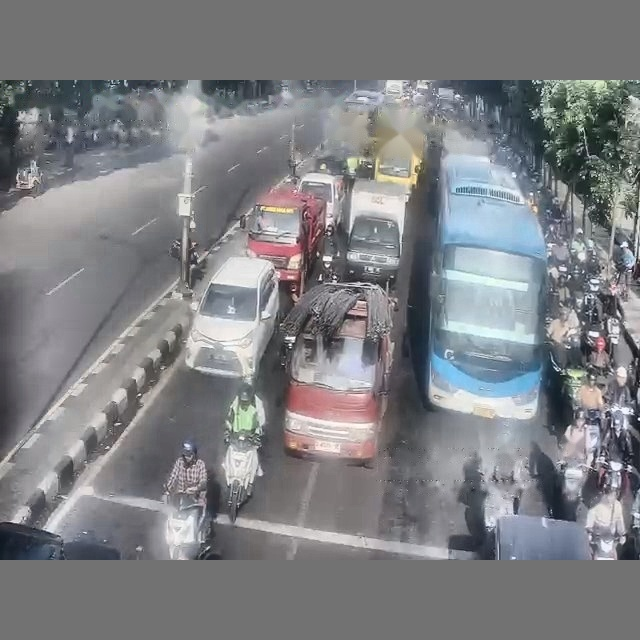Bis: (426, 154, 546, 420)
Mobil: (185, 256, 279, 378)
Motor: (222, 434, 259, 522), (165, 493, 207, 559)
Truk: (281, 283, 397, 467), (246, 185, 326, 302), (343, 180, 407, 284)
